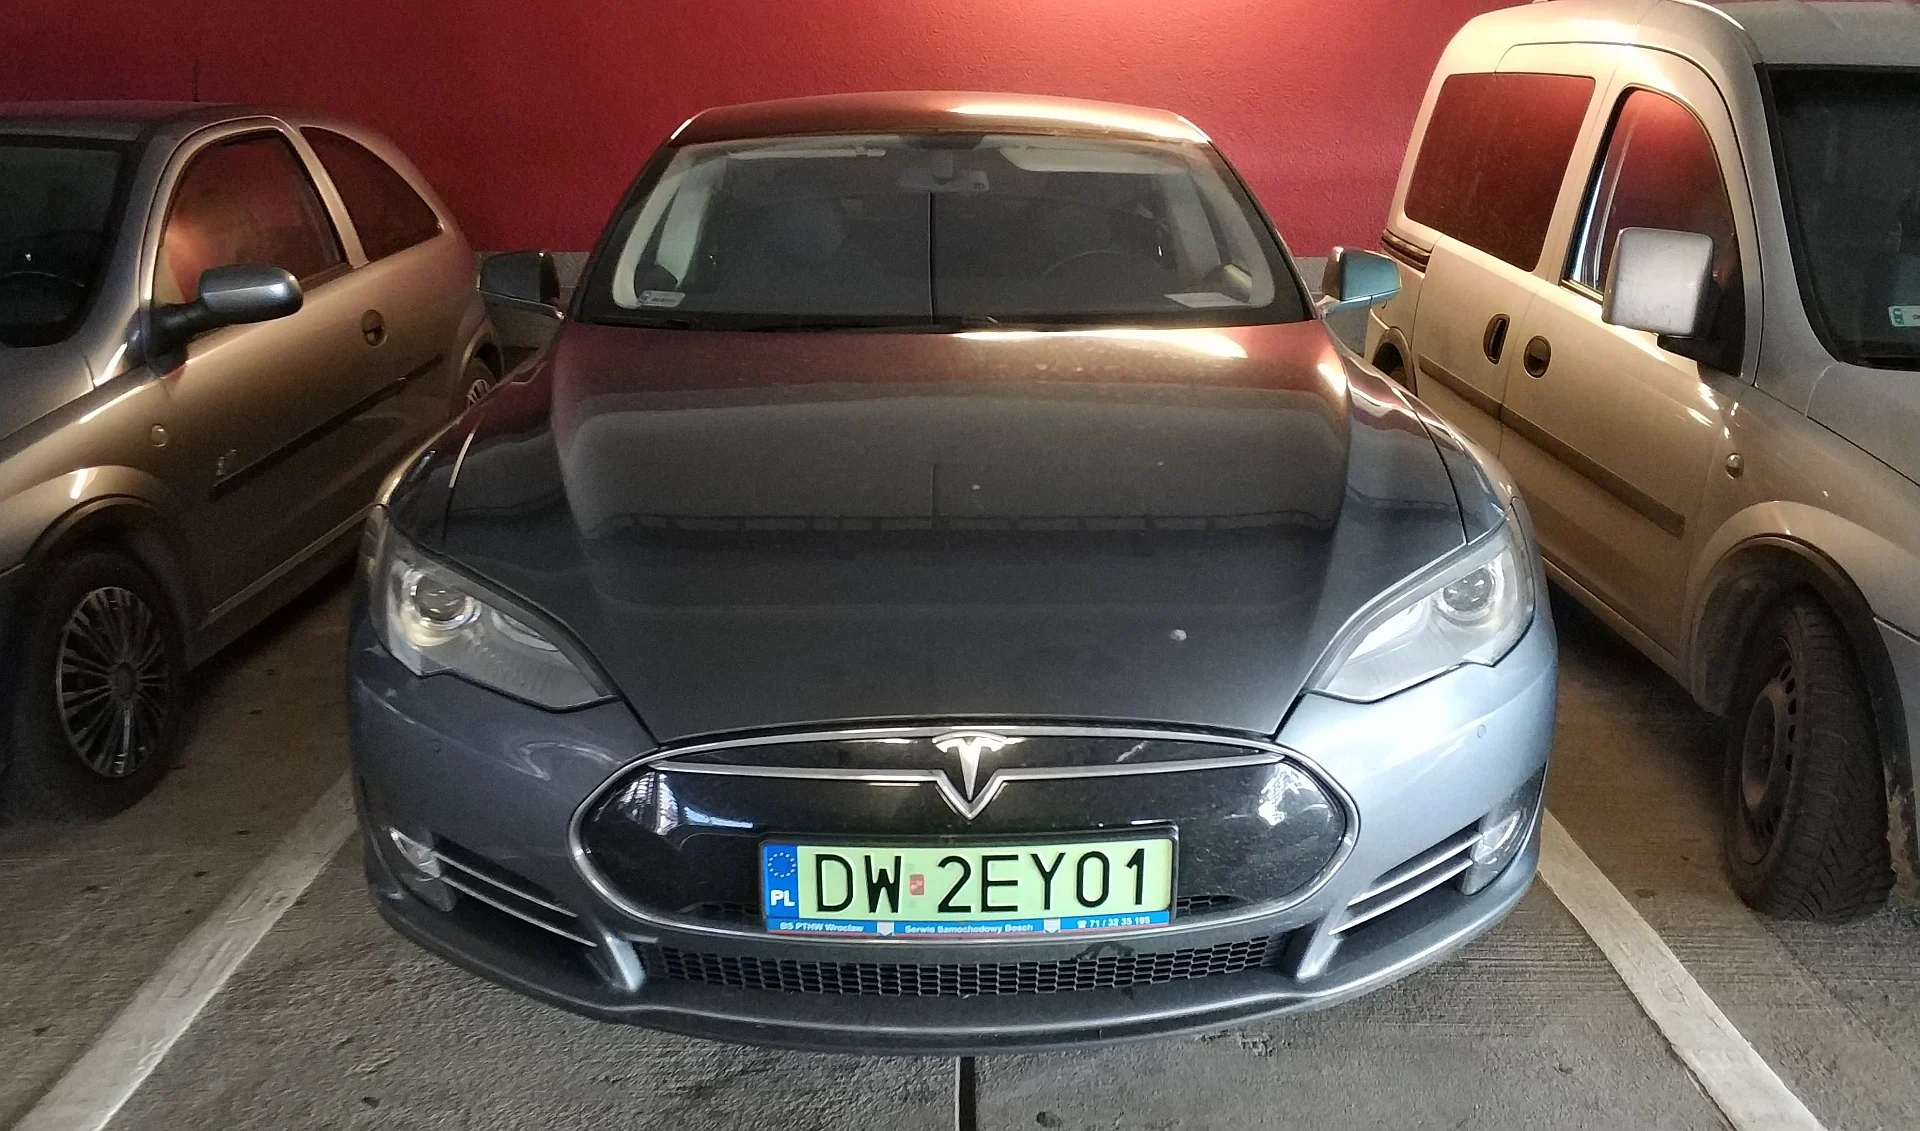tablica: (761, 840, 1169, 940)
